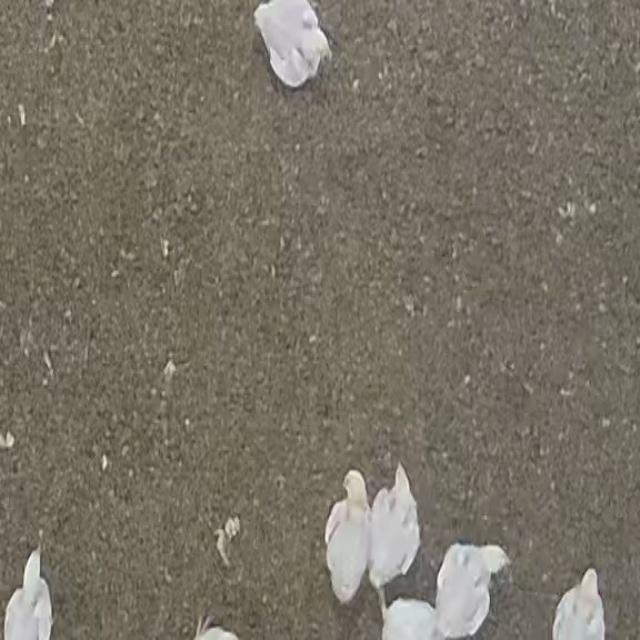chicken: (321, 470, 373, 607), (439, 540, 511, 637), (256, 1, 328, 87), (374, 462, 420, 584), (6, 546, 51, 640), (555, 567, 604, 640), (379, 595, 441, 640)
